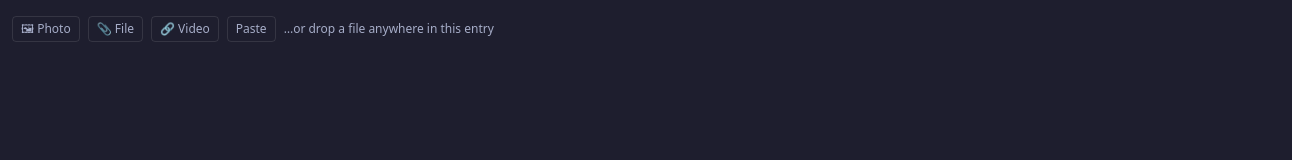
Test: JournalAttachments › paste and drop › the Paste button › says so when the clipboard holds nothing attachable
Click the button "Paste": (251, 29) [227,16,276,42]
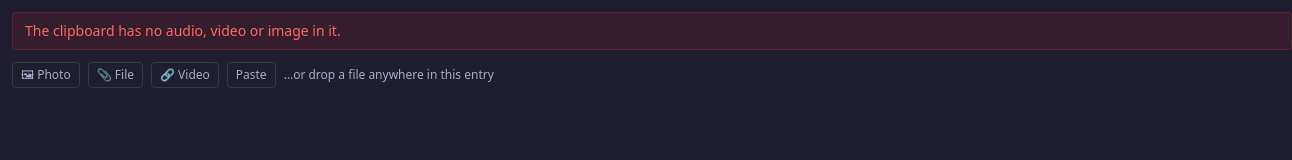
Check: the text "The clipboard has no audio, video or image in it." is shown, box [12,12,1291,50]
